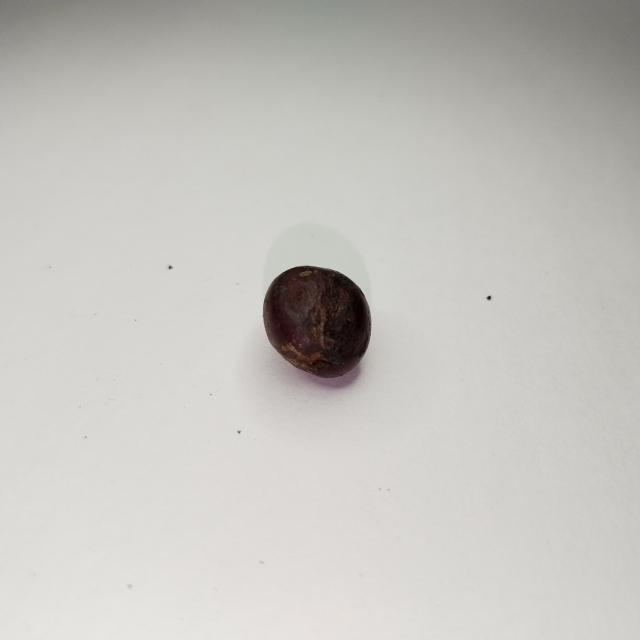Danado: (263, 266, 370, 377)
